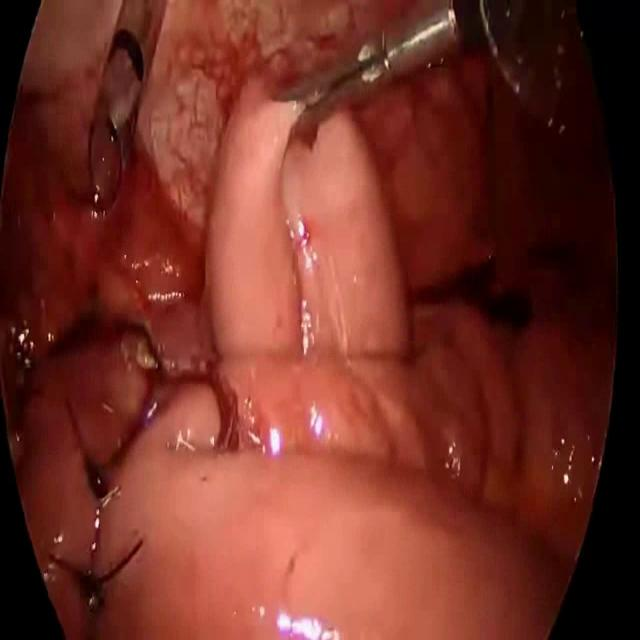surgical-area: (0, 0, 617, 639)
surgical-tool: (284, 3, 470, 113), (86, 0, 169, 221)
